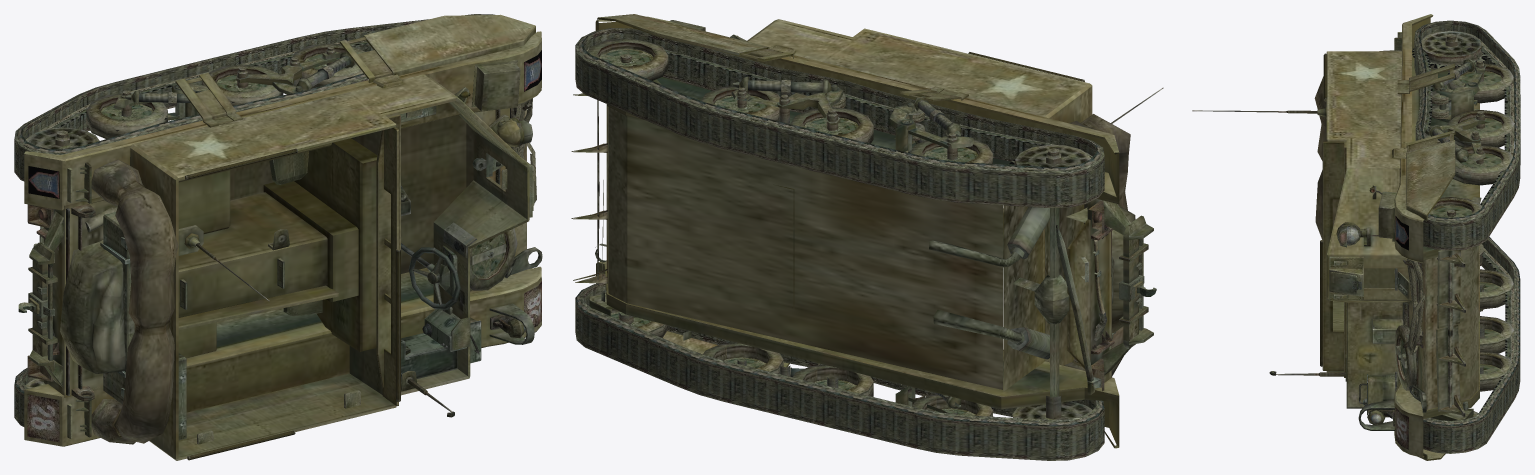
File: vehicle_uni_carrier_yw_dirt.glb
3 views of the same model, side by side, from view 1: azimuth 30°, elevation 25°; view 2: azimuth 150°, elevation 25°; view 3: azimuth 270°, elevation 25° (orthographic). The views are drawn at different scales.
Bounding box in the file's own units: 159 × 93.89 × 103.
Materials: 4 (4 with a texture image).
